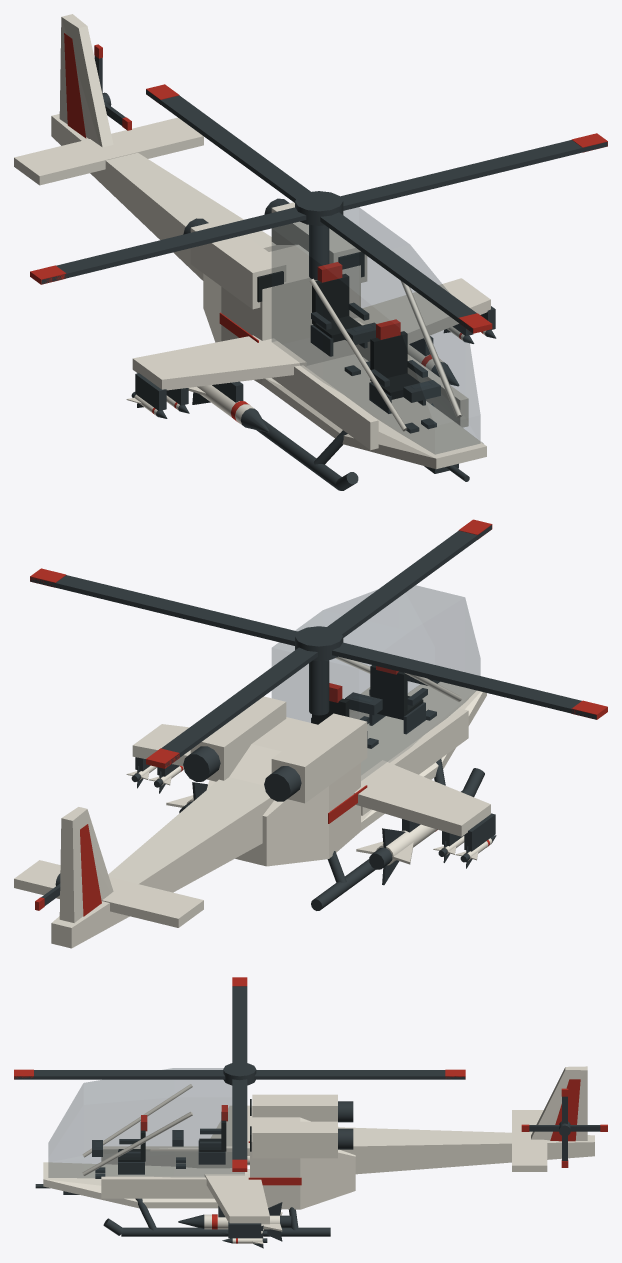
The picture shows the model from 3 angles, top to bottom: view 1: azimuth 30°, elevation 25°; view 2: azimuth 150°, elevation 25°; view 3: azimuth 270°, elevation 25°; orthographic projection. The views are drawn at different scales.
Parts seen in each view (by area): view 1: helicopter-fleet-armor, helicopter-fleet-glass, helicopter-fleet-machine, blade-arm-2-painted, blade-arm-0-painted, crew-chair-gunner-painted, blade-arm-3-painted, crew-chair-pilot-painted, blade-arm-1-painted, helicopter-fleet-red, store-left-large-painted, rotor-main-fleet-machine (+1 smaller); view 2: helicopter-fleet-armor, helicopter-fleet-glass, helicopter-fleet-machine, blade-arm-2-painted, blade-arm-0-painted, blade-arm-1-painted, blade-arm-3-painted, crew-chair-gunner-painted, store-left-large-painted, helicopter-fleet-red, crew-chair-pilot-painted, rotor-main-fleet-machine; view 3: helicopter-fleet-armor, helicopter-fleet-glass, helicopter-fleet-machine, blade-arm-1-painted, blade-arm-3-painted, blade-arm-0-painted, crew-chair-pilot-painted, blade-arm-2-painted, crew-chair-gunner-painted, store-right-large-painted, helicopter-fleet-red, rotor-main-fleet-machine.
Part boxes in pixels (x1,y1,x2,y2): helicopter-fleet-armor: [14, 14, 490, 469]; helicopter-fleet-glass: [272, 207, 480, 454]; helicopter-fleet-machine: [135, 198, 495, 490]; blade-arm-2-painted: [30, 207, 306, 284]; blade-arm-0-painted: [340, 133, 607, 210]; crew-chair-gunner-painted: [369, 319, 440, 433]; blade-arm-3-painted: [320, 212, 492, 333]; crew-chair-pilot-painted: [310, 262, 375, 375]; blade-arm-1-painted: [146, 84, 310, 202]; helicopter-fleet-red: [64, 33, 258, 342]; store-left-large-painted: [188, 385, 269, 432]; rotor-main-fleet-machine: [295, 191, 343, 225]; helicopter-fleet-armor: [14, 656, 490, 948]; helicopter-fleet-glass: [272, 585, 480, 780]; helicopter-fleet-machine: [135, 660, 495, 910]; blade-arm-2-painted: [332, 642, 607, 719]; blade-arm-0-painted: [30, 568, 297, 645]; blade-arm-1-painted: [146, 647, 317, 768]; blade-arm-3-painted: [327, 519, 492, 637]; crew-chair-gunner-painted: [369, 665, 439, 734]; store-left-large-painted: [356, 824, 437, 885]; helicopter-fleet-red: [80, 785, 367, 916]; crew-chair-pilot-painted: [311, 683, 382, 748]; rotor-main-fleet-machine: [295, 626, 343, 660]; helicopter-fleet-armor: [43, 1066, 594, 1224]; helicopter-fleet-glass: [48, 1068, 244, 1177]; helicopter-fleet-machine: [103, 1101, 353, 1238]; blade-arm-1-painted: [254, 1069, 465, 1079]; blade-arm-3-painted: [14, 1069, 225, 1079]; blade-arm-0-painted: [232, 1079, 247, 1171]; crew-chair-pilot-painted: [172, 1105, 227, 1168]; blade-arm-2-painted: [232, 977, 247, 1062]; crew-chair-gunner-painted: [92, 1115, 147, 1178]; store-right-large-painted: [178, 1202, 291, 1241]; helicopter-fleet-red: [248, 1079, 580, 1185]; rotor-main-fleet-machine: [223, 1062, 256, 1085].
Size of the model in its own units: 50.42 by 18.06 by 66.32.
